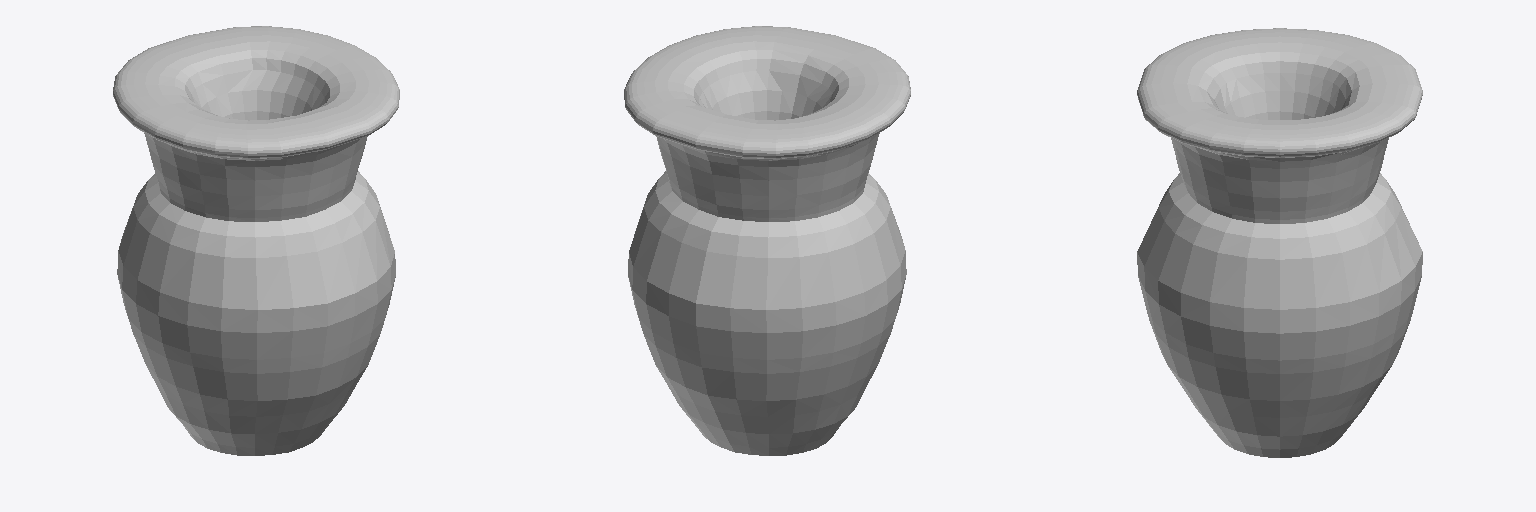
File: Vase2.obj
The picture shows the model from 3 angles: view 1: azimuth 30°, elevation 25°; view 2: azimuth 150°, elevation 25°; view 3: azimuth 270°, elevation 25°; orthographic projection.
Parts seen in each view (by area): view 1: nurbsToPoly3; view 2: nurbsToPoly3; view 3: nurbsToPoly3.
Boxes of the visible parts, <box> form: nurbsToPoly3: <box>113,26,399,455</box>; nurbsToPoly3: <box>624,26,910,455</box>; nurbsToPoly3: <box>1137,28,1422,457</box>.
Bounding box in the file's own units: 36 × 48.43 × 36.37.